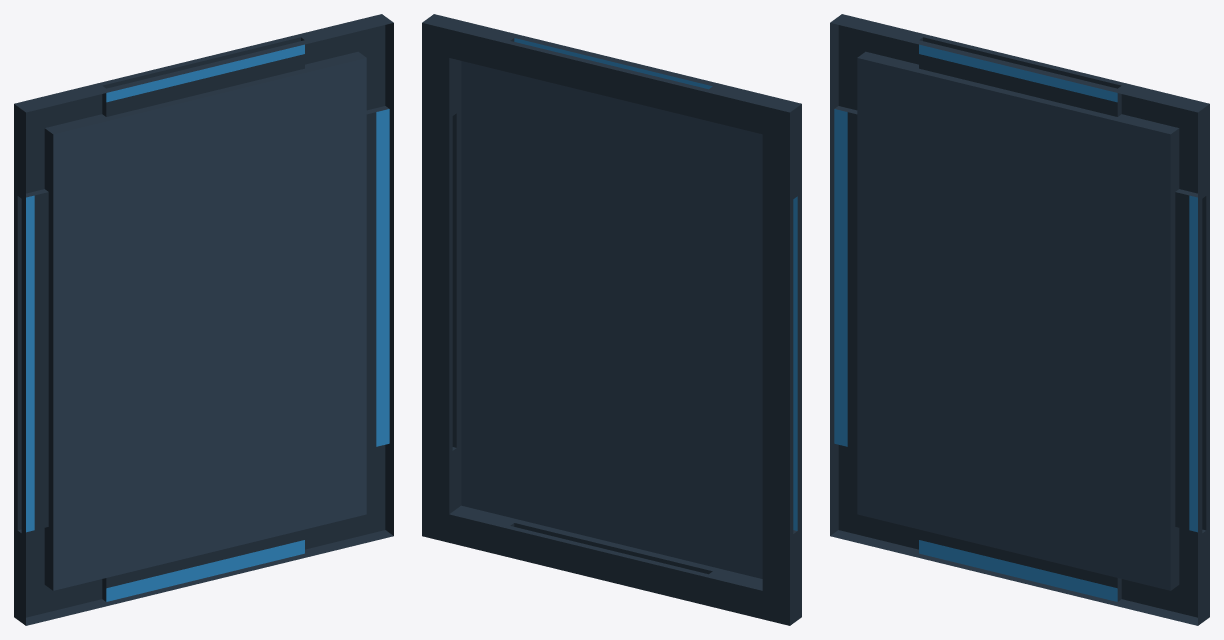
The model's file is Hidder_room_001.fbx.
3 views of the same model, side by side, from view 1: azimuth 30°, elevation 25°; view 2: azimuth 150°, elevation 25°; view 3: azimuth 330°, elevation 25° (orthographic).
Visible parts, largest first — view 1: Hidder_room_001; view 2: Hidder_room_001; view 3: Hidder_room_001.
Boxes of the visible parts, x1,y1,x2,y2 form: Hidder_room_001: [14, 14, 393, 625]; Hidder_room_001: [422, 14, 801, 625]; Hidder_room_001: [830, 14, 1209, 625].
Bounding box in the file's own units: 300 × 400 × 16.99.
